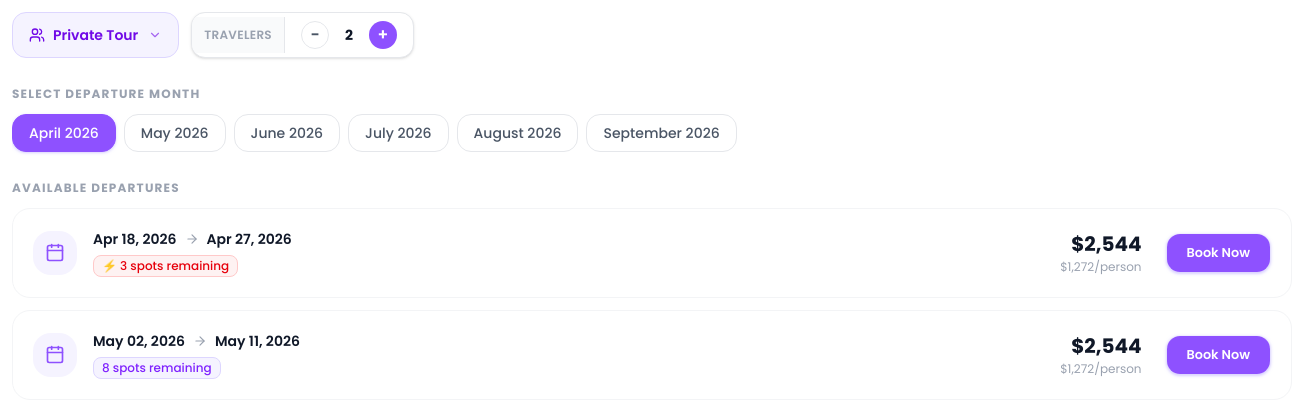
Test: Availability › decrements traveler count and updates total price
Click the button "−".
click(315, 35)  # box [301, 21, 329, 49]
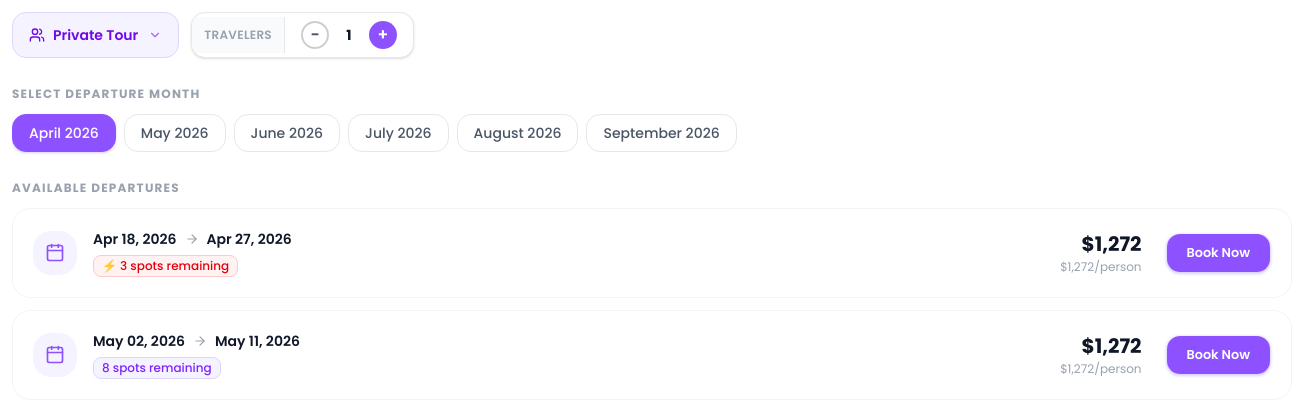
Expected: the text "$1,272" in the row of "Apr 27, 2026" is shown, [1082, 230, 1142, 258]
